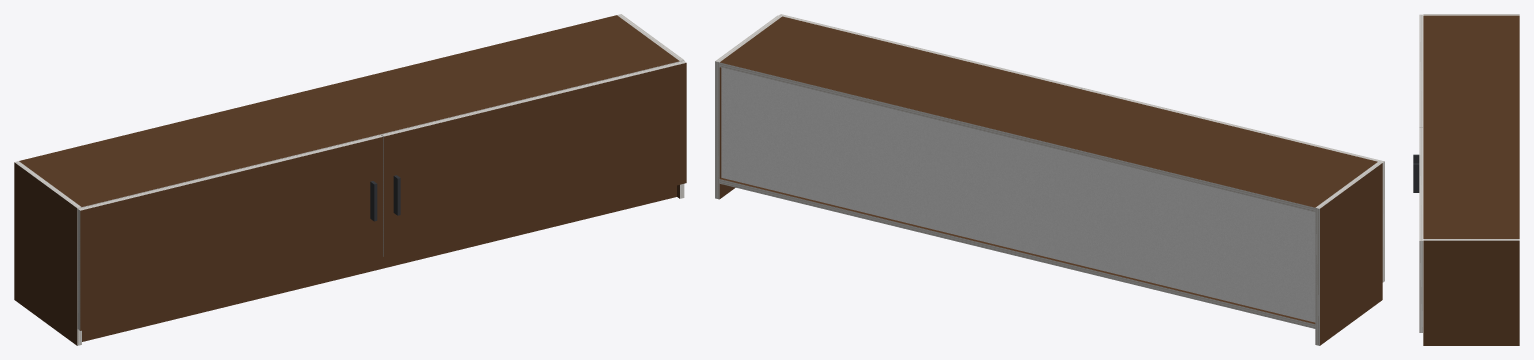
File: ATL-MED-long.glb
3 views of the same model, side by side, from view 1: azimuth 30°, elevation 25°; view 2: azimuth 150°, elevation 25°; view 3: azimuth 270°, elevation 25° (orthographic). The views are drawn at different scales.
Parts seen in each view (by area): view 1: top:pbr, door-l:pbr, door-r:pbr, side-l:pbr, plinth:pbr, door-l:sheet:eyJtIjoicGx5Iiwic2lkZSI6ImVkZ2UtbG9uZyIsInNlZWQ, door-r:sheet:eyJtIjoicGx5Iiwic2lkZSI6ImVkZ2UtbG9uZyIsInNlZWQ, top:sheet:eyJtIjoicGx5Iiwic2lkZSI6ImVkZ2UtbG9uZyIsInNlZWQiOj, pull; view 2: back:sheet:eyJtIjoibWRmIiwic2lkZSI6ImZhY2UiLCJzZWVkIjoxLCJ0a, top:pbr, side-l:pbr, top:sheet:eyJtIjoicGx5Iiwic2lkZSI6ImVkZ2UtbG9uZyIsInNlZWQiOj, bottom:sheet:eyJtIjoicGx5Iiwic2lkZSI6ImVkZ2UtbG9uZyIsInNlZWQ, bottom:pbr, door-l:sheet:eyJtIjoicGx5Iiwic2lkZSI6ImVkZ2UtbG9uZyIsInNlZWQ, door-r:sheet:eyJtIjoicGx5Iiwic2lkZSI6ImVkZ2UtbG9uZyIsInNlZWQ, side-l:sheet:eyJtIjoicGx5Iiwic2lkZSI6ImVkZ2UtbG9uZyIsInNlZWQ, side-r:sheet:eyJtIjoicGx5Iiwic2lkZSI6ImVkZ2UtbG9uZyIsInNlZWQ; view 3: top:pbr, side-r:pbr, door-l:sheet:eyJtIjoicGx5Iiwic2lkZSI6ImVkZ2UtbG9uZyIsInNlZWQ, door-r:sheet:eyJtIjoicGx5Iiwic2lkZSI6ImVkZ2UtbG9uZyIsInNlZWQ, door-r:sheet:eyJtIjoicGx5Iiwic2lkZSI6ImVkZ2UtZW5kIiwic2VlZCI, pull, side-l:sheet:eyJtIjoicGx5Iiwic2lkZSI6ImVkZ2UtZW5kIiwic2VlZCI, side-r:sheet:eyJtIjoicGx5Iiwic2lkZSI6ImVkZ2UtZW5kIiwic2VlZCI.
Part boxes in pixels (left/top/right/bottom): top:pbr: left=19, top=15, right=679, bottom=206; door-l:pbr: left=80, top=137, right=383, bottom=330; door-r:pbr: left=384, top=63, right=686, bottom=256; side-l:pbr: left=14, top=162, right=77, bottom=345; plinth:pbr: left=82, top=185, right=676, bottom=341; door-l:sheet:eyJtIjoicGx5Iiwic2lkZSI6ImVkZ2UtbG9uZyIsInNlZWQ: left=78, top=135, right=382, bottom=210; door-r:sheet:eyJtIjoicGx5Iiwic2lkZSI6ImVkZ2UtbG9uZyIsInNlZWQ: left=381, top=61, right=686, bottom=136; top:sheet:eyJtIjoicGx5Iiwic2lkZSI6ImVkZ2UtbG9uZyIsInNlZWQiOj: left=82, top=61, right=679, bottom=207; pull: left=370, top=175, right=400, bottom=221; back:sheet:eyJtIjoibWRmIiwic2lkZSI6ImZhY2UiLCJzZWVkIjoxLCJ0a: left=721, top=67, right=1315, bottom=322; top:pbr: left=720, top=16, right=1377, bottom=207; side-l:pbr: left=1320, top=163, right=1382, bottom=345; top:sheet:eyJtIjoicGx5Iiwic2lkZSI6ImVkZ2UtbG9uZyIsInNlZWQiOj: left=719, top=62, right=1315, bottom=212; bottom:sheet:eyJtIjoicGx5Iiwic2lkZSI6ImVkZ2UtbG9uZyIsInNlZWQ: left=719, top=179, right=1315, bottom=328; bottom:pbr: left=720, top=177, right=1315, bottom=323; door-l:sheet:eyJtIjoicGx5Iiwic2lkZSI6ImVkZ2UtbG9uZyIsInNlZWQ: left=1081, top=88, right=1384, bottom=162; door-r:sheet:eyJtIjoicGx5Iiwic2lkZSI6ImVkZ2UtbG9uZyIsInNlZWQ: left=779, top=14, right=1081, bottom=88; side-l:sheet:eyJtIjoicGx5Iiwic2lkZSI6ImVkZ2UtbG9uZyIsInNlZWQ: left=1315, top=208, right=1319, bottom=345; side-r:sheet:eyJtIjoicGx5Iiwic2lkZSI6ImVkZ2UtbG9uZyIsInNlZWQ: left=715, top=61, right=719, bottom=199; top:pbr: left=1423, top=15, right=1519, bottom=238; side-r:pbr: left=1423, top=240, right=1519, bottom=345; door-l:sheet:eyJtIjoicGx5Iiwic2lkZSI6ImVkZ2UtbG9uZyIsInNlZWQ: left=1419, top=14, right=1422, bottom=127; door-r:sheet:eyJtIjoicGx5Iiwic2lkZSI6ImVkZ2UtbG9uZyIsInNlZWQ: left=1419, top=128, right=1422, bottom=240; door-r:sheet:eyJtIjoicGx5Iiwic2lkZSI6ImVkZ2UtZW5kIiwic2VlZCI: left=1419, top=241, right=1422, bottom=332; pull: left=1413, top=154, right=1419, bottom=192; side-l:sheet:eyJtIjoicGx5Iiwic2lkZSI6ImVkZ2UtZW5kIiwic2VlZCI: left=1423, top=14, right=1519, bottom=15; side-r:sheet:eyJtIjoicGx5Iiwic2lkZSI6ImVkZ2UtZW5kIiwic2VlZCI: left=1423, top=239, right=1519, bottom=240.
Bounding box in the file's own units: 2.4 × 0.52 × 0.4769.
Materials: 34 (23 with a texture image).
